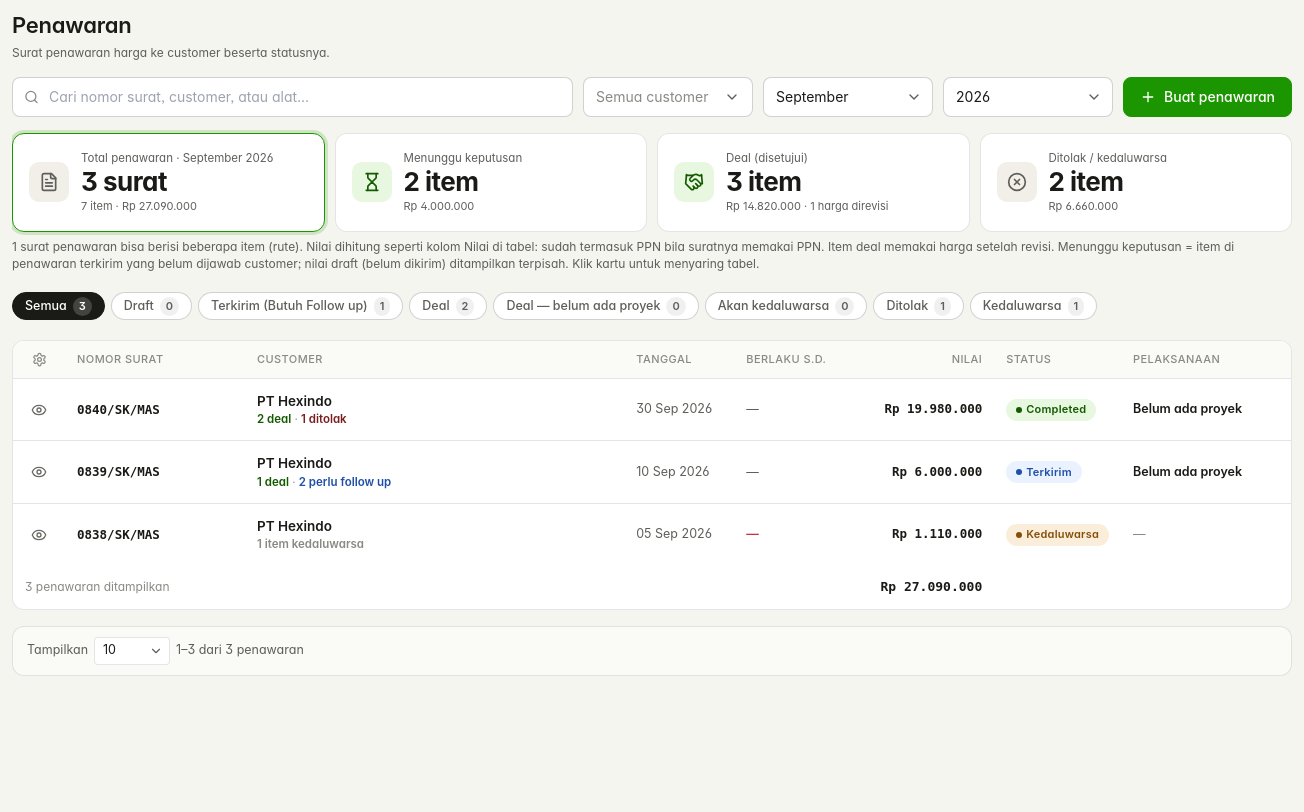
Test: QuotationsListView — periode & kartu monitoring › klik kartu Deal menyaring penawaran yang punya item deal, walau masih terkirim
Click the button "Deal (disetujui) 3 item Rp 14.820.000 · 1 harga direvisi" at (694, 182), box [657, 133, 970, 232]
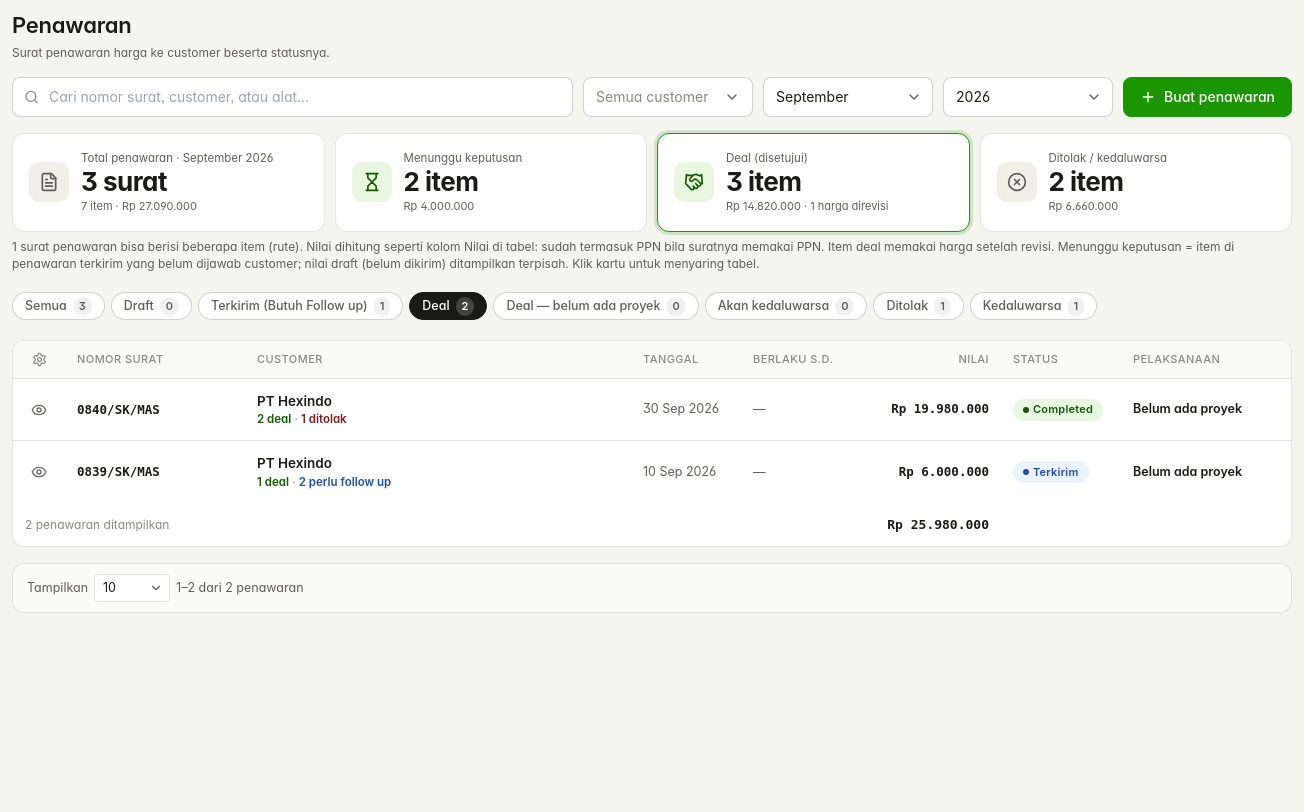
Check: the text "0839/SK/MAS" is shown, box [77, 464, 160, 479]
Check: the text "0838/SK/MAS" is gone
